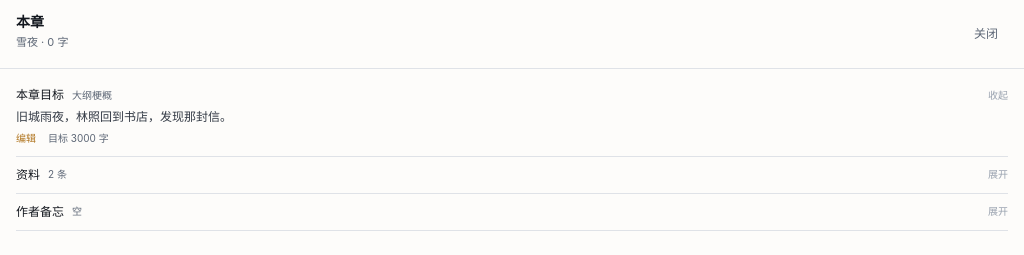
it: 右栏「本章」 › 资料显示计数与条目，完整列表走知识库
Click the button "资料 2 条 展开" at (28, 174), box [16,166,1008,182]
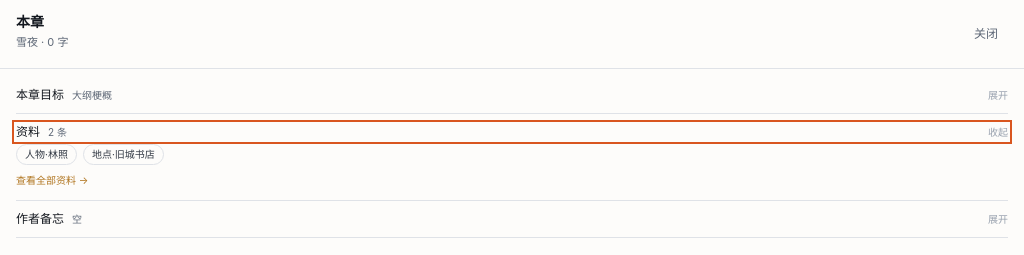
expect the text "2 条" is shown: met, box [48,124,67,140]
expect the list item "人物·林照" is shown: met, box [16,144,77,165]
expect the list item "地点·旧城书店" is shown: met, box [83,144,164,165]
